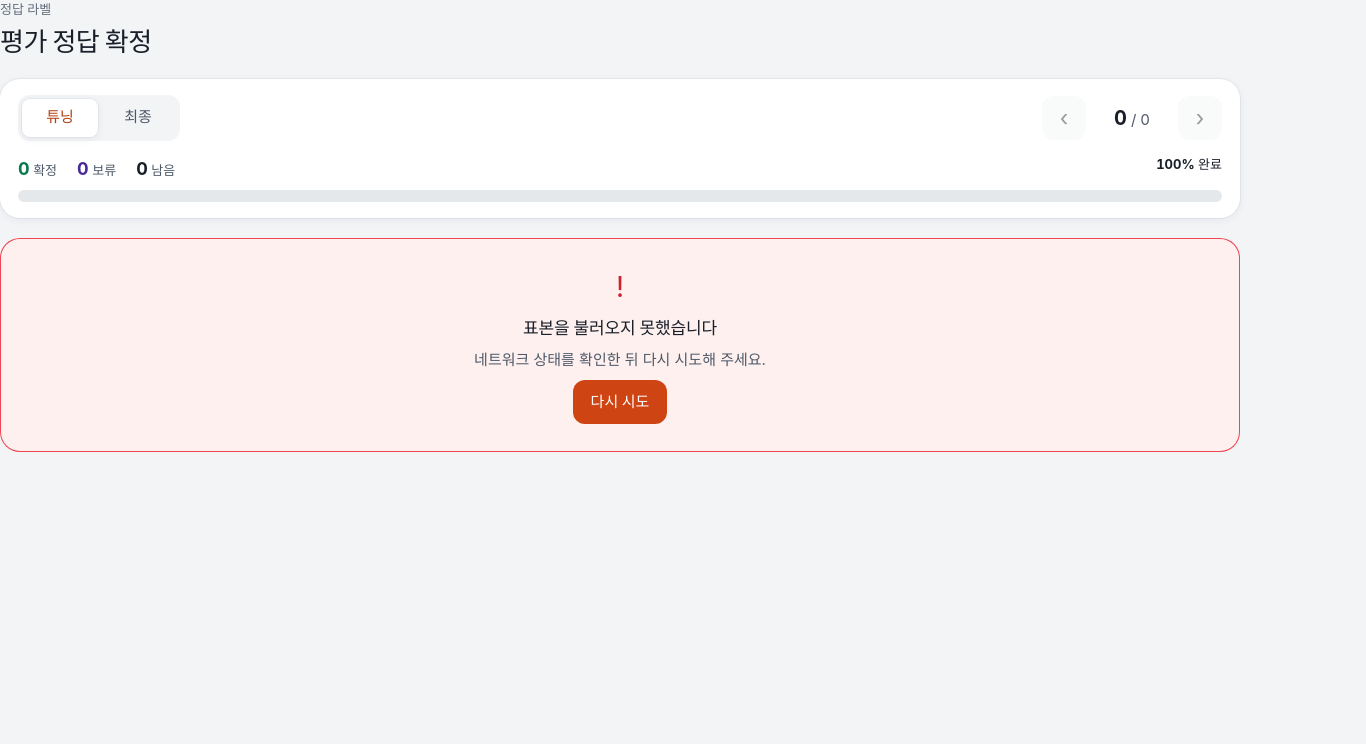
Test: Evaluation states › offers a retry after a load failure
Click the button "다시 시도": (620, 402) [573,380,667,424]
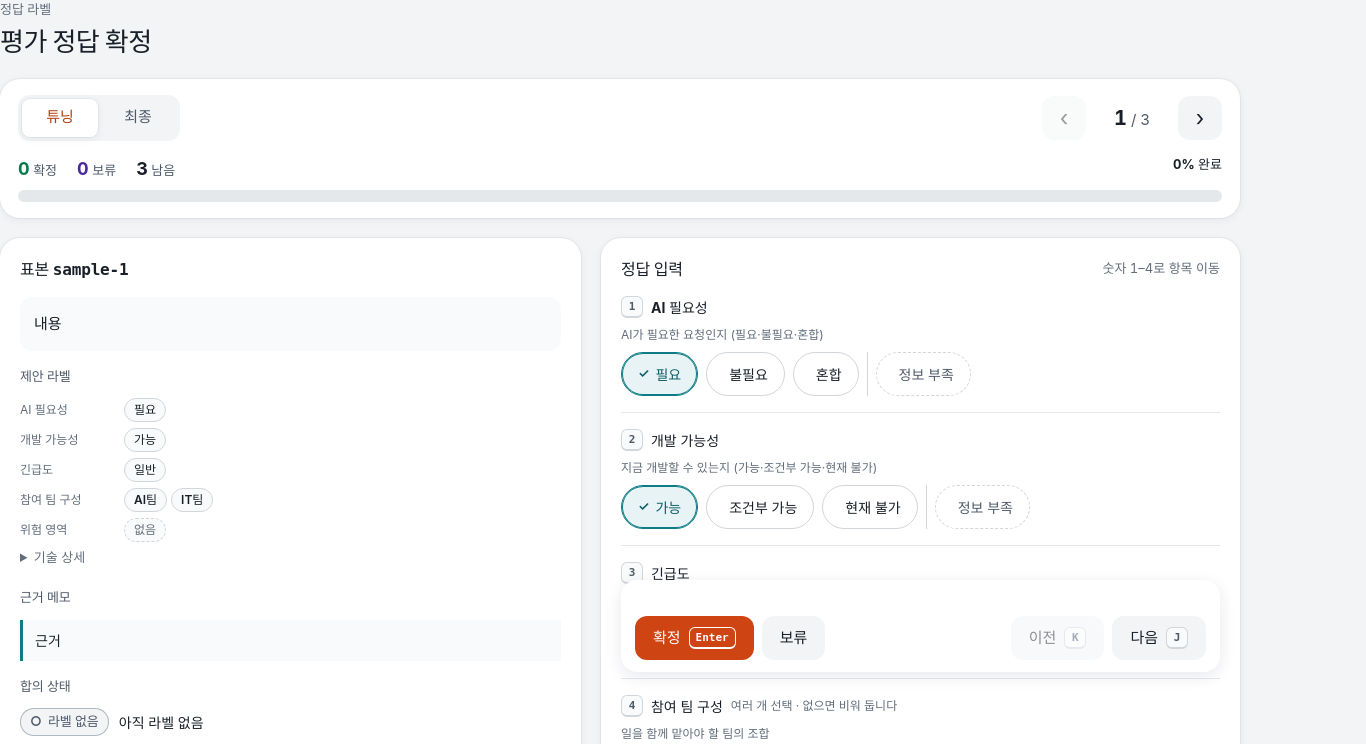
Result: the heading "표본 sample-1" is shown at [20,258,128,281]
